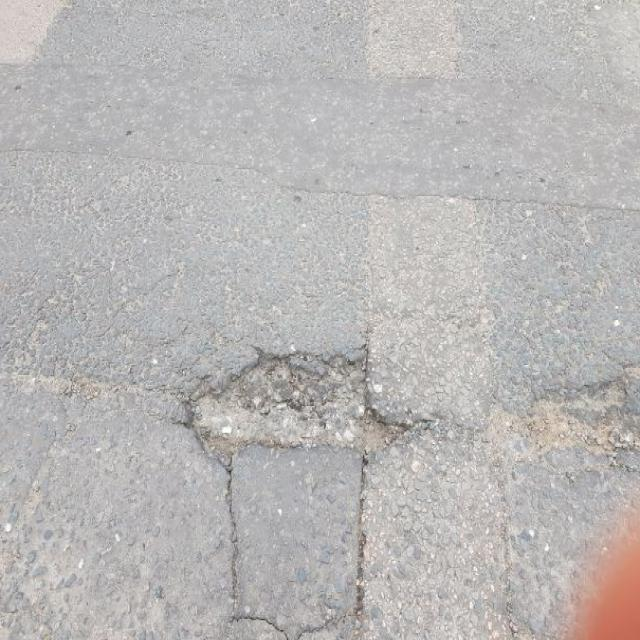Pothole: (179, 341, 414, 468)
